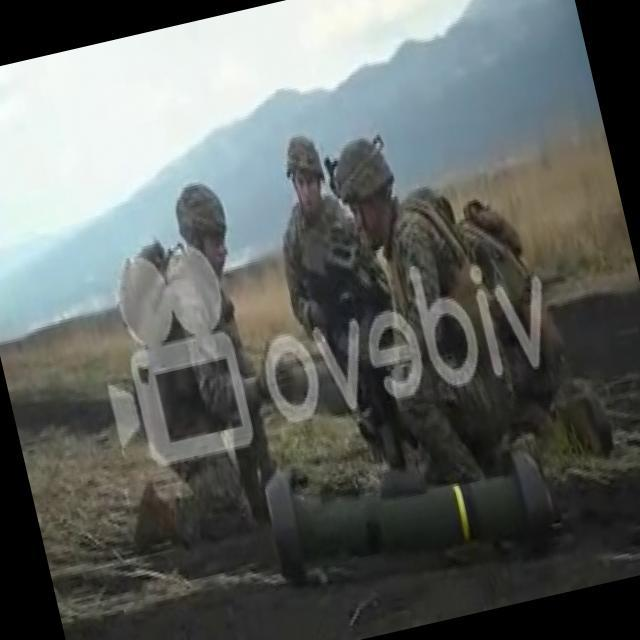rocket: (258, 411, 560, 604)
